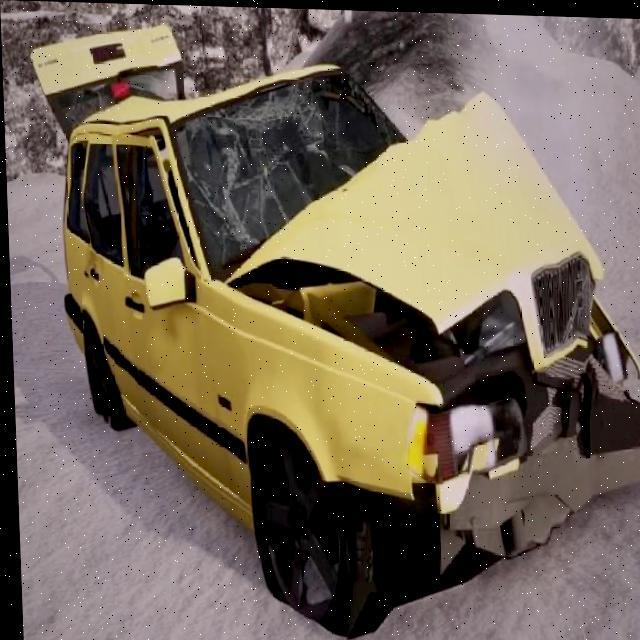single accident: (59, 26, 620, 570)
